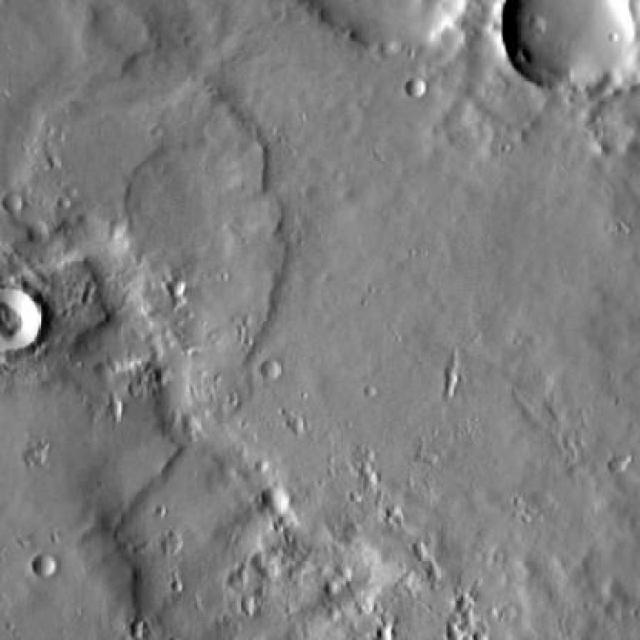crater: (507, 0, 640, 98), (311, 3, 475, 55), (0, 289, 48, 354), (0, 190, 25, 213), (36, 554, 58, 575), (404, 78, 424, 98), (258, 358, 278, 378), (170, 275, 188, 290)
